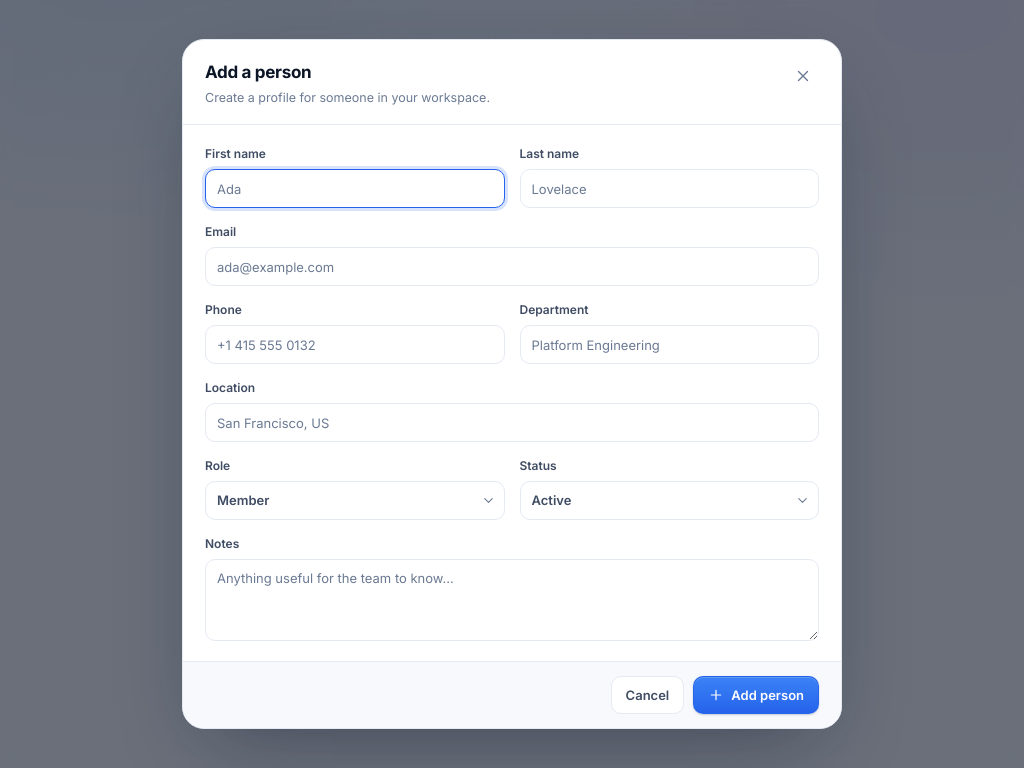
it: UserFormDialog › shows validation errors instead of submitting an empty form
Click the button "Add person" at (756, 695), box left=693, top=676, right=819, bottom=714
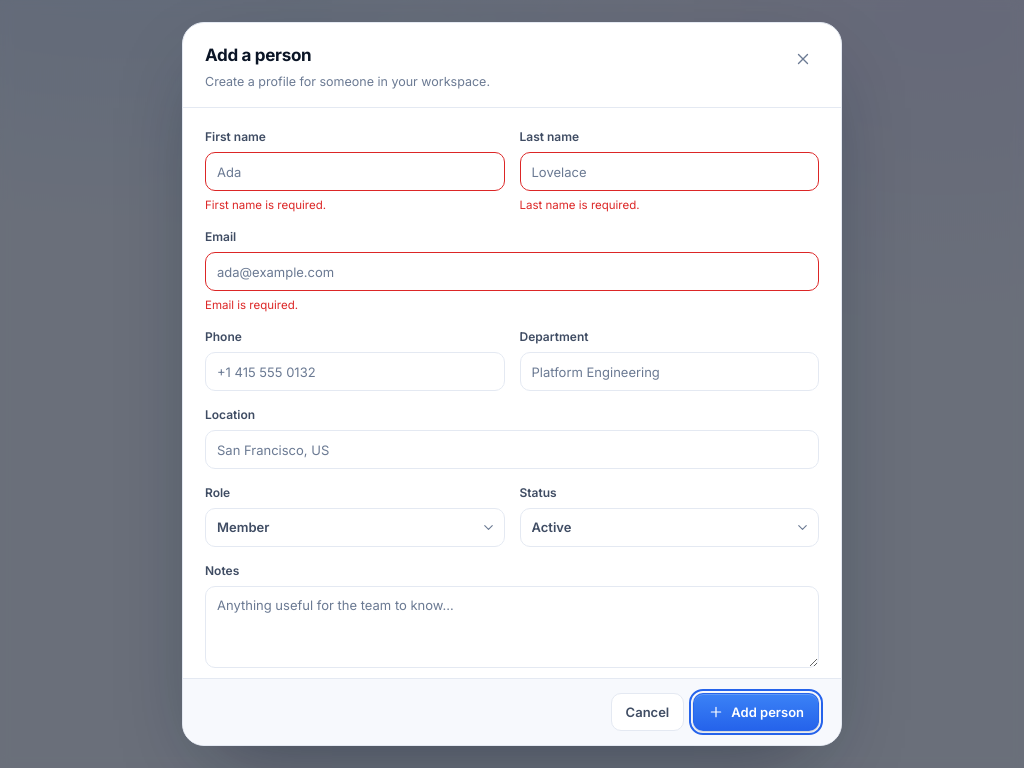
Result: the text "First name is required." is shown at left=205, top=198, right=326, bottom=212
Result: the text "Last name is required." is shown at left=520, top=198, right=640, bottom=212
Result: the text "Email is required." is shown at left=205, top=298, right=298, bottom=312
